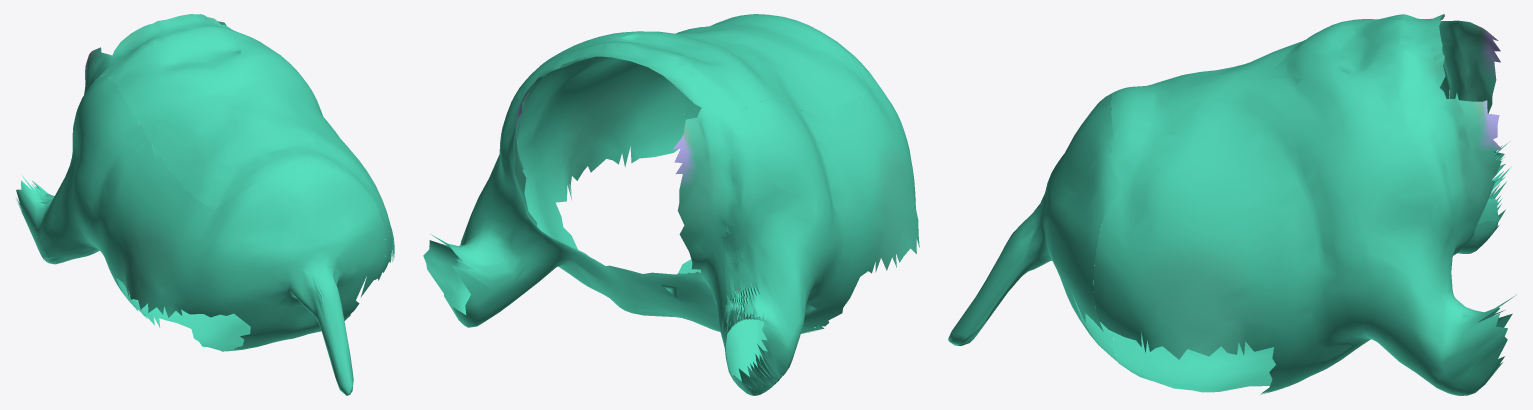
File: Cuerpo_Central.obj
3 views of the same model, side by side, from view 1: azimuth 30°, elevation 25°; view 2: azimuth 150°, elevation 25°; view 3: azimuth 270°, elevation 25° (orthographic). The views are drawn at different scales.
Parts seen in each view (by area): view 1: Cuerpo_Central; view 2: Cuerpo_Central; view 3: Cuerpo_Central.
Boxes of the visible parts, x1,y1,x2,y2 form: Cuerpo_Central: (16,14,394,395); Cuerpo_Central: (423,14,919,395); Cuerpo_Central: (948,14,1515,395).
Bounding box in the file's own units: 66.24 × 60.69 × 95.
